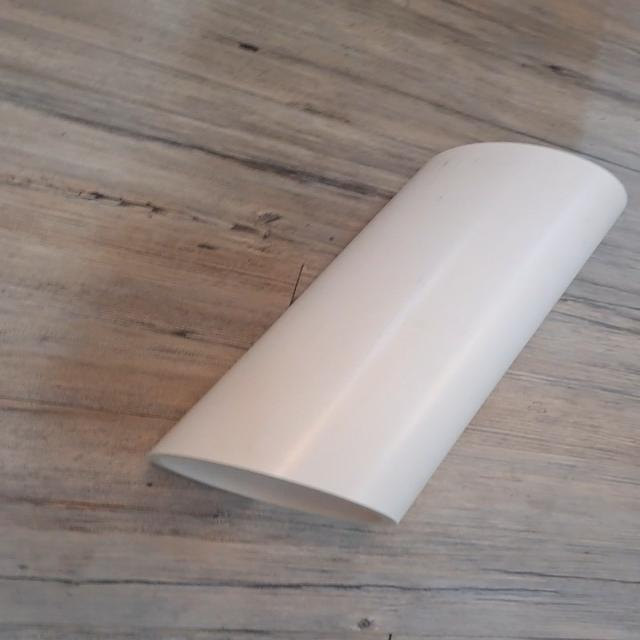CORAL: (125, 130, 640, 534)
